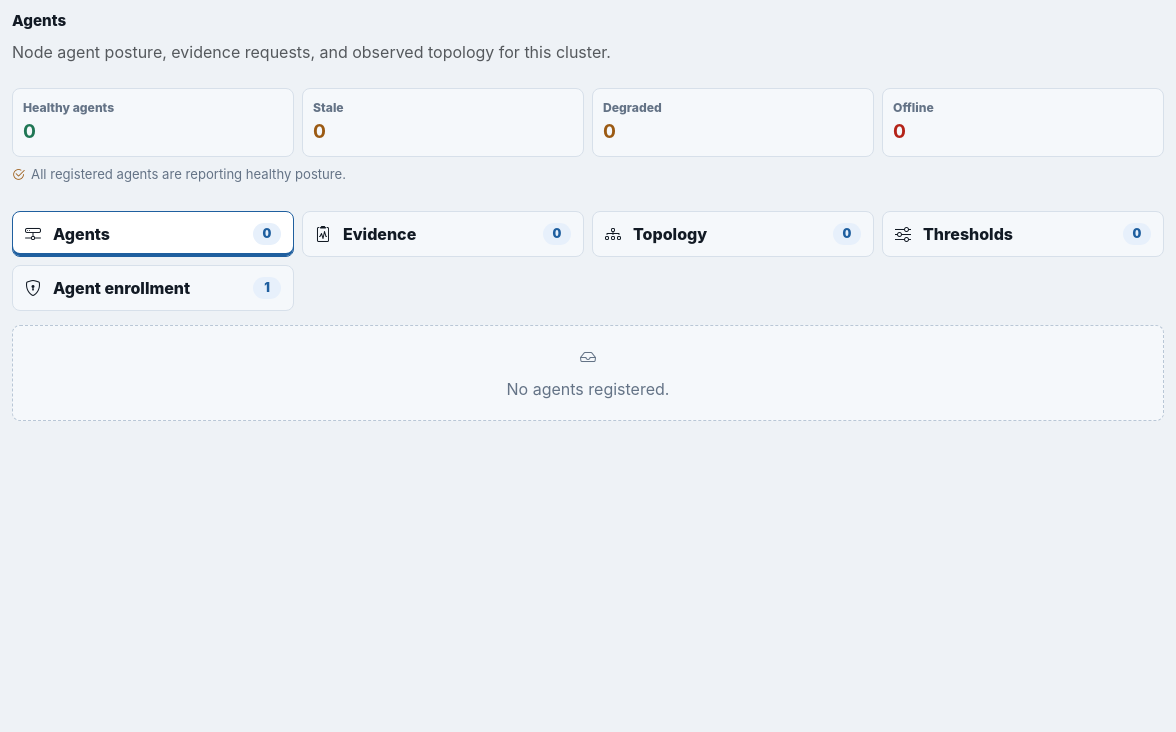
Test: Agent enrollment panel › shows trusted status without exposing admin controls to a viewer
Click the text "Agent enrollment" at point(122, 288), box x1=53 y1=278 x2=190 y2=298
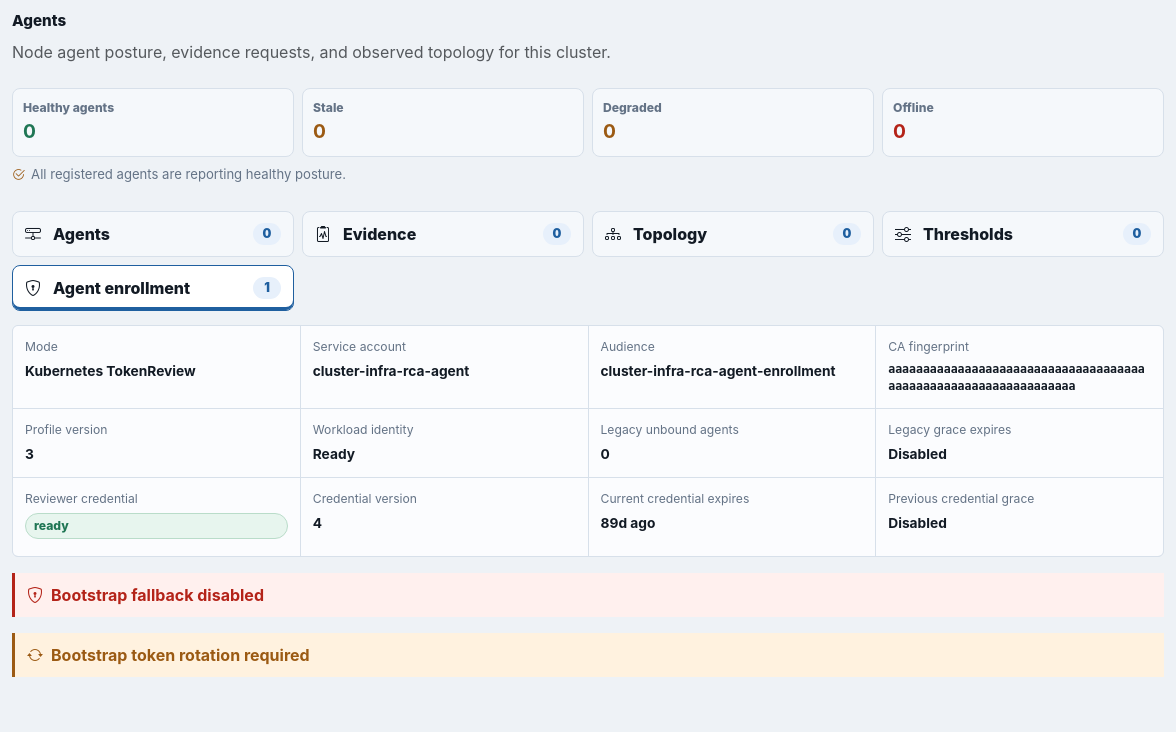
Expected: the text "Kubernetes TokenReview" is shown, x1=25 y1=363 x2=196 y2=379
Expected: the text "Bootstrap fallback disabled" is shown, x1=51 y1=583 x2=264 y2=607
